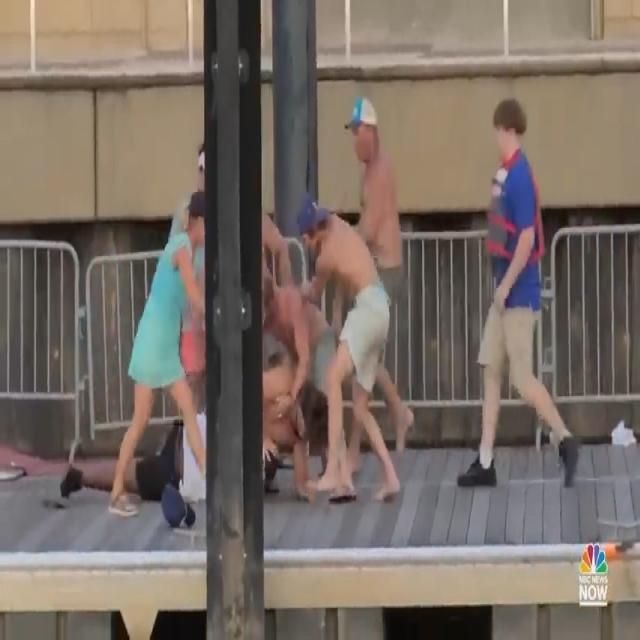fight: (52, 94, 414, 520)
non-fight: (452, 89, 582, 500)
